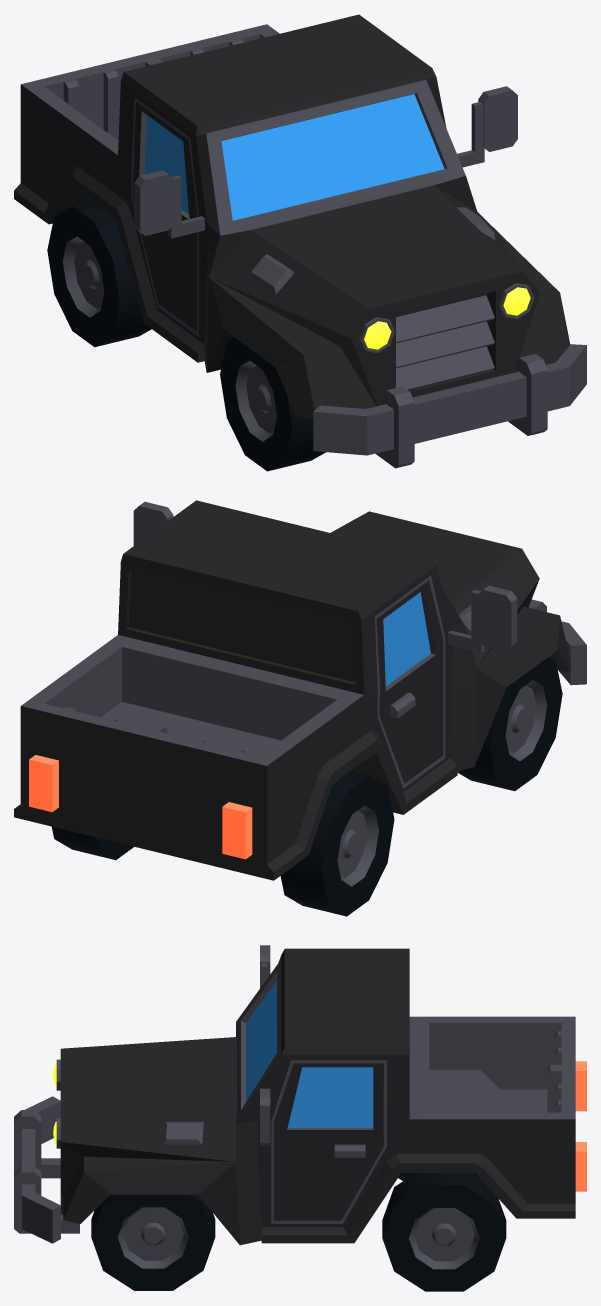
The model's file is Jeep.fbx.
3 views of the same model, one above another, from view 1: azimuth 30°, elevation 25°; view 2: azimuth 150°, elevation 25°; view 3: azimuth 270°, elevation 25° (orthographic). The views are drawn at different scales.
Parts seen in each view (by area): view 1: Jeep; view 2: Jeep; view 3: Jeep.
Boxes of the visible parts, x1,y1,x2,y2 form: Jeep: (14, 14, 586, 471); Jeep: (14, 500, 586, 916); Jeep: (14, 945, 586, 1291).
Bounding box in the file's own units: 92.04 × 64.59 × 142.
